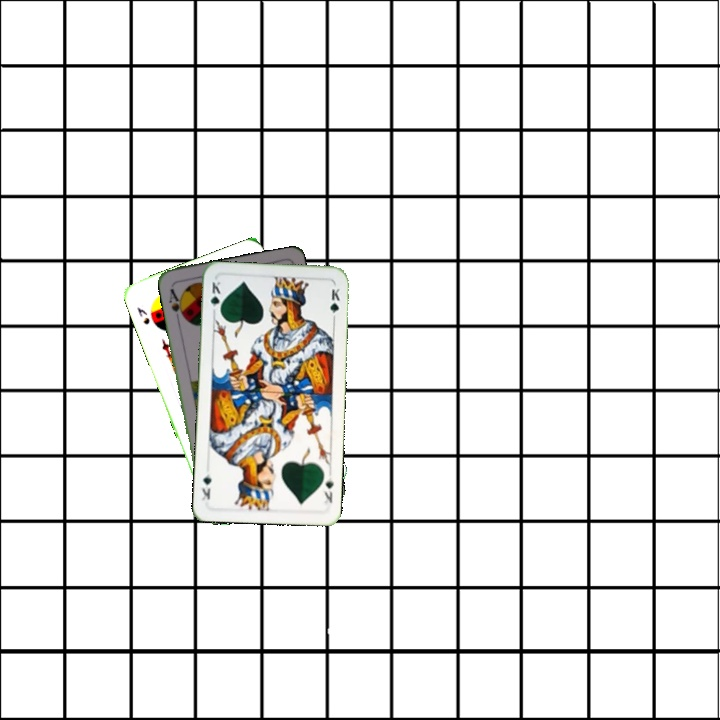GK: (206, 277, 223, 317), (319, 474, 336, 506)
SA: (165, 284, 188, 323)
SK: (133, 303, 152, 327)
